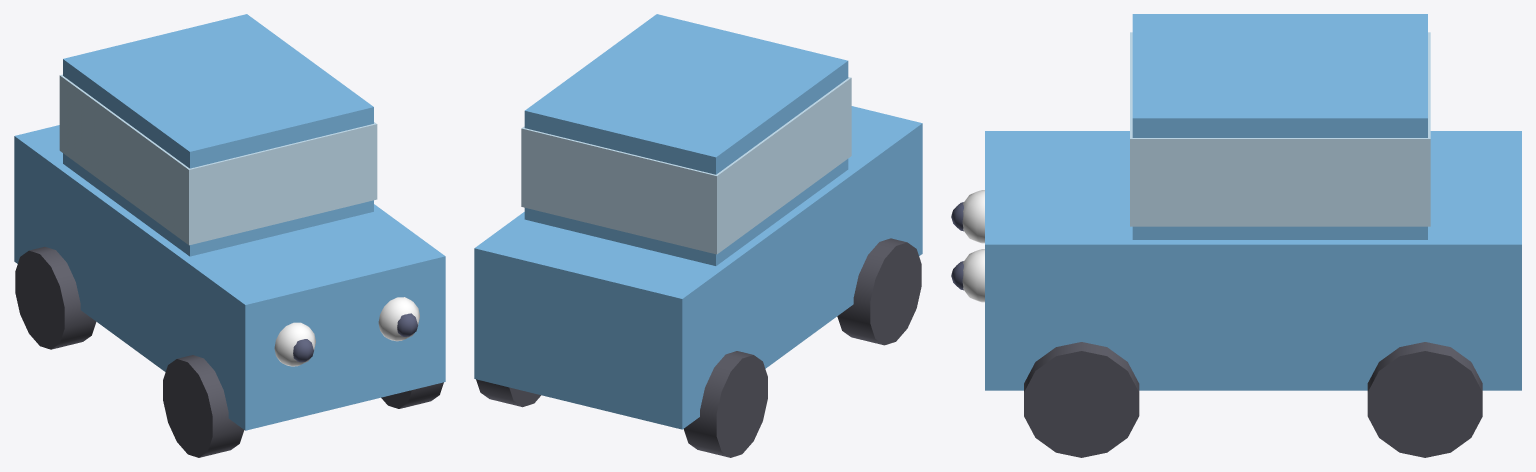
File: mobil0.glb
The picture shows the model from 3 angles, left to right: view 1: azimuth 30°, elevation 25°; view 2: azimuth 150°, elevation 25°; view 3: azimuth 270°, elevation 25°; orthographic projection. The views are drawn at different scales.
Parts seen in each view (by area): view 1: mobil0; view 2: mobil0; view 3: mobil0.
Boxes of the visible parts, x1,y1,x2,y2 form: mobil0: (14, 14, 445, 457); mobil0: (474, 14, 922, 457); mobil0: (951, 14, 1521, 457).
Size of the model in its own units: 0.58 by 0.67 by 1.06.
